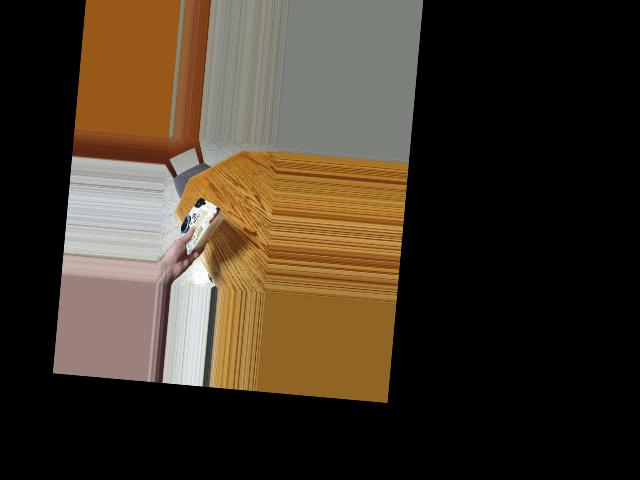cheese: (172, 198, 229, 248)
